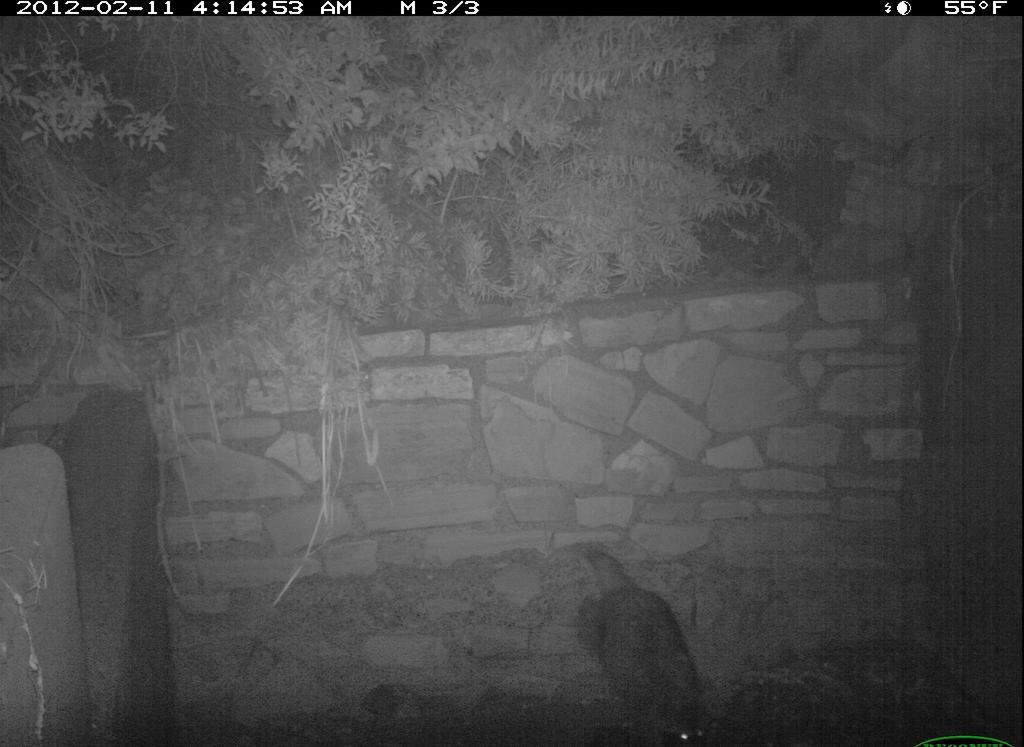raccoon: (541, 533, 713, 737)
